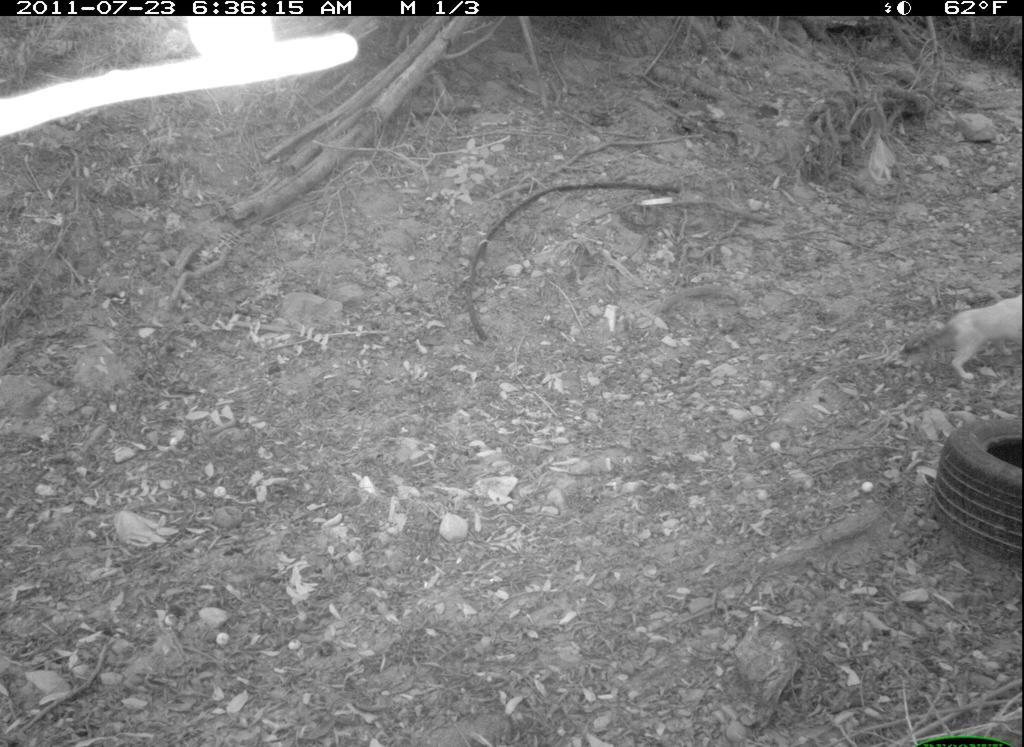cat: (895, 287, 1023, 392)
